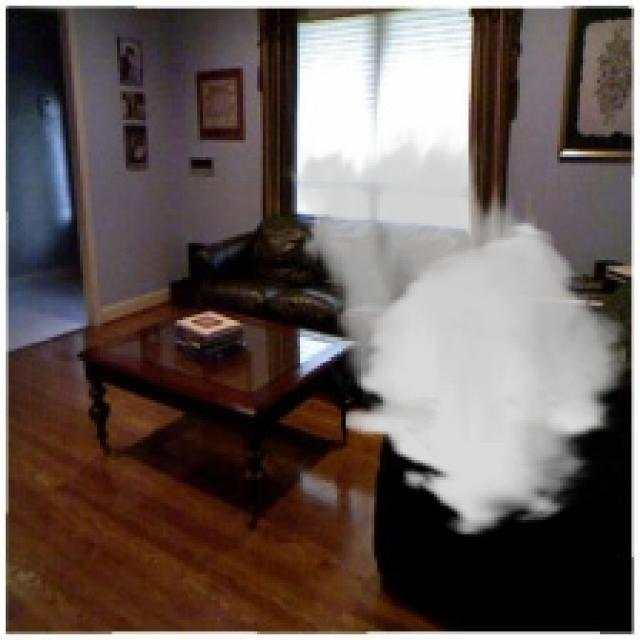smoke: (280, 126, 626, 537)
